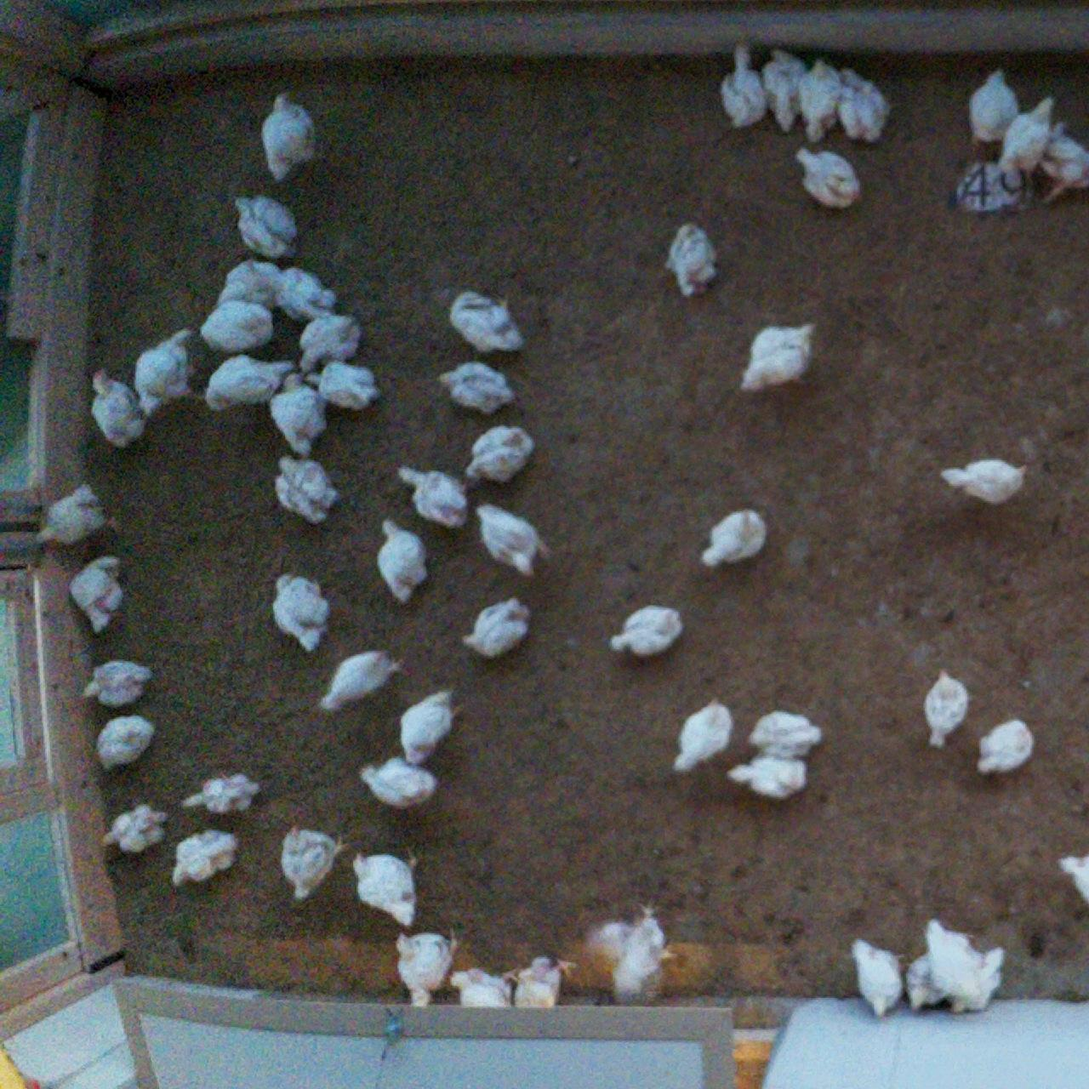chicken: (606, 897, 684, 996), (134, 328, 216, 422), (444, 284, 534, 364), (254, 88, 322, 188), (315, 642, 406, 715), (348, 838, 420, 929), (35, 480, 122, 553), (738, 317, 818, 396), (470, 501, 551, 579), (267, 362, 329, 461), (456, 587, 534, 665), (83, 364, 152, 451), (373, 517, 439, 606), (391, 923, 459, 1008), (824, 61, 892, 144), (205, 352, 296, 414), (992, 94, 1062, 174), (396, 684, 465, 765), (960, 62, 1022, 150), (846, 932, 909, 1018), (280, 821, 346, 903), (1032, 112, 1089, 206), (794, 139, 868, 211), (272, 450, 342, 526), (721, 746, 812, 804), (918, 921, 983, 1002), (270, 567, 328, 657), (939, 452, 1032, 508), (163, 823, 239, 891), (64, 552, 127, 634), (717, 40, 773, 132), (395, 463, 474, 528), (941, 944, 1010, 1018), (358, 754, 440, 816), (669, 696, 733, 775), (179, 761, 265, 819), (230, 191, 302, 260), (94, 796, 172, 858), (194, 300, 274, 359), (604, 601, 684, 659), (758, 45, 809, 135), (302, 355, 381, 413), (211, 253, 286, 314), (661, 221, 720, 298), (435, 359, 514, 416), (792, 57, 842, 146), (74, 657, 154, 712), (741, 707, 819, 763), (296, 307, 365, 369), (462, 421, 532, 482), (267, 261, 335, 323), (506, 951, 579, 1008), (93, 711, 160, 773), (701, 504, 770, 564), (923, 667, 972, 747), (972, 716, 1035, 778), (440, 965, 515, 1010), (901, 946, 949, 1012), (1058, 847, 1089, 908)
